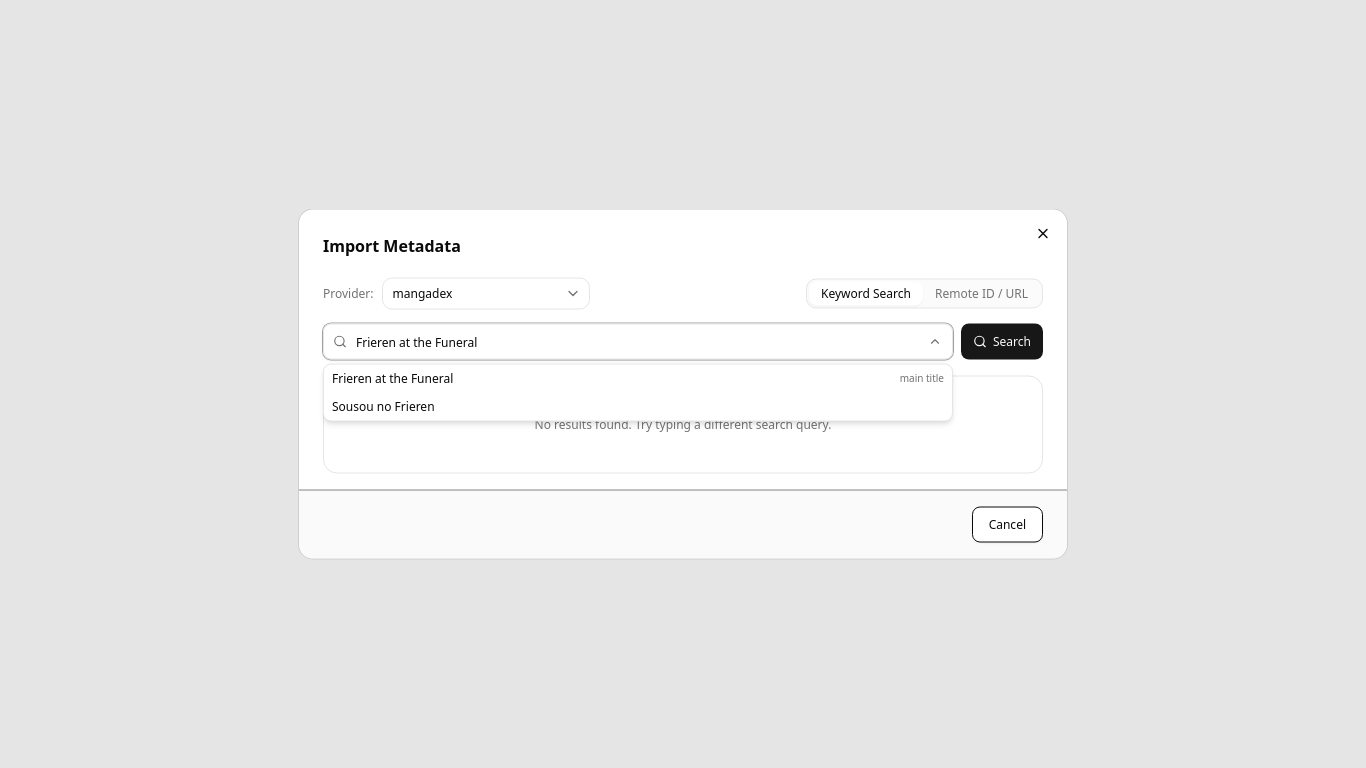
Test: ImportMetadataDialog › performs direct Remote ID / URL lookup and transitions to comparison
// Switch to direct ID/URL mode
Click the button "Remote ID / URL": (982, 294) [923,282,1040,306]
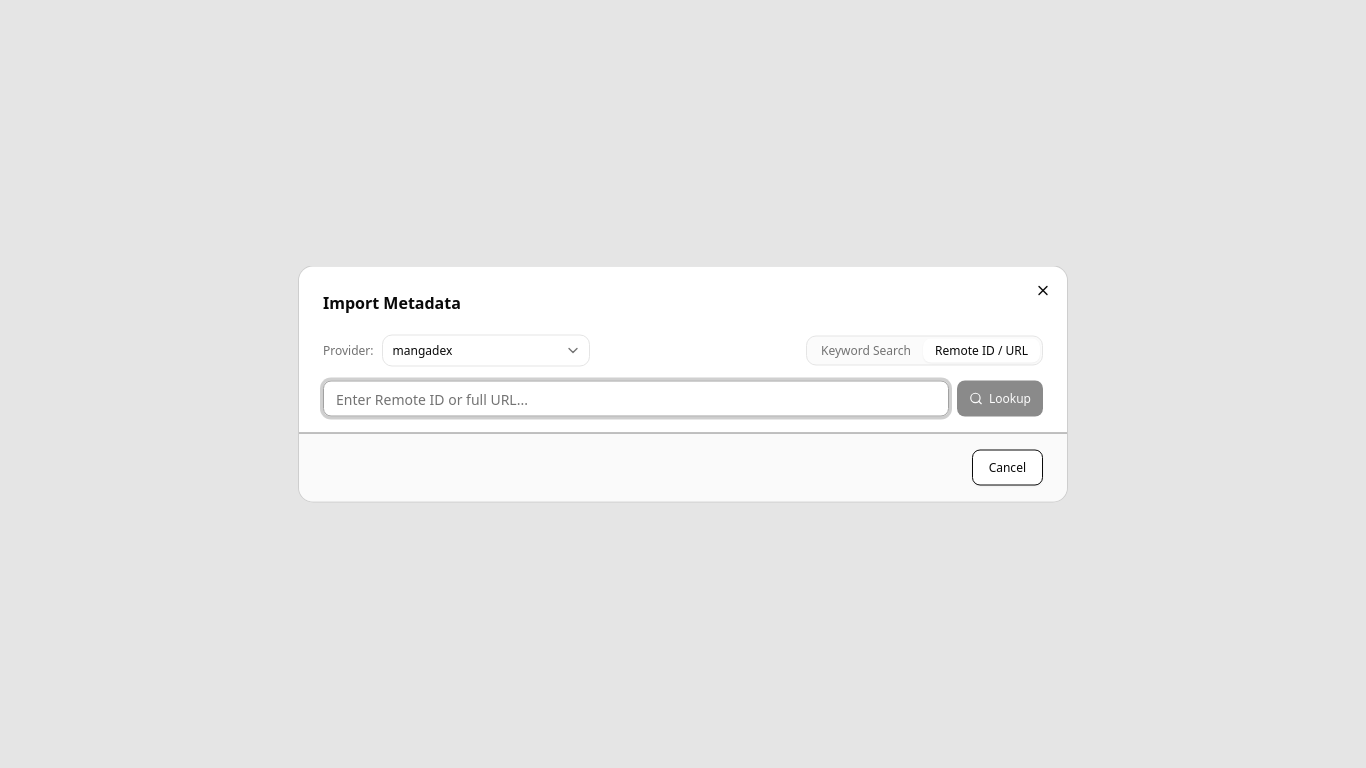
In the field with placeholder "Enter Remote ID or full URL...": (636, 398) [323,380,949,416], type "remote-123"
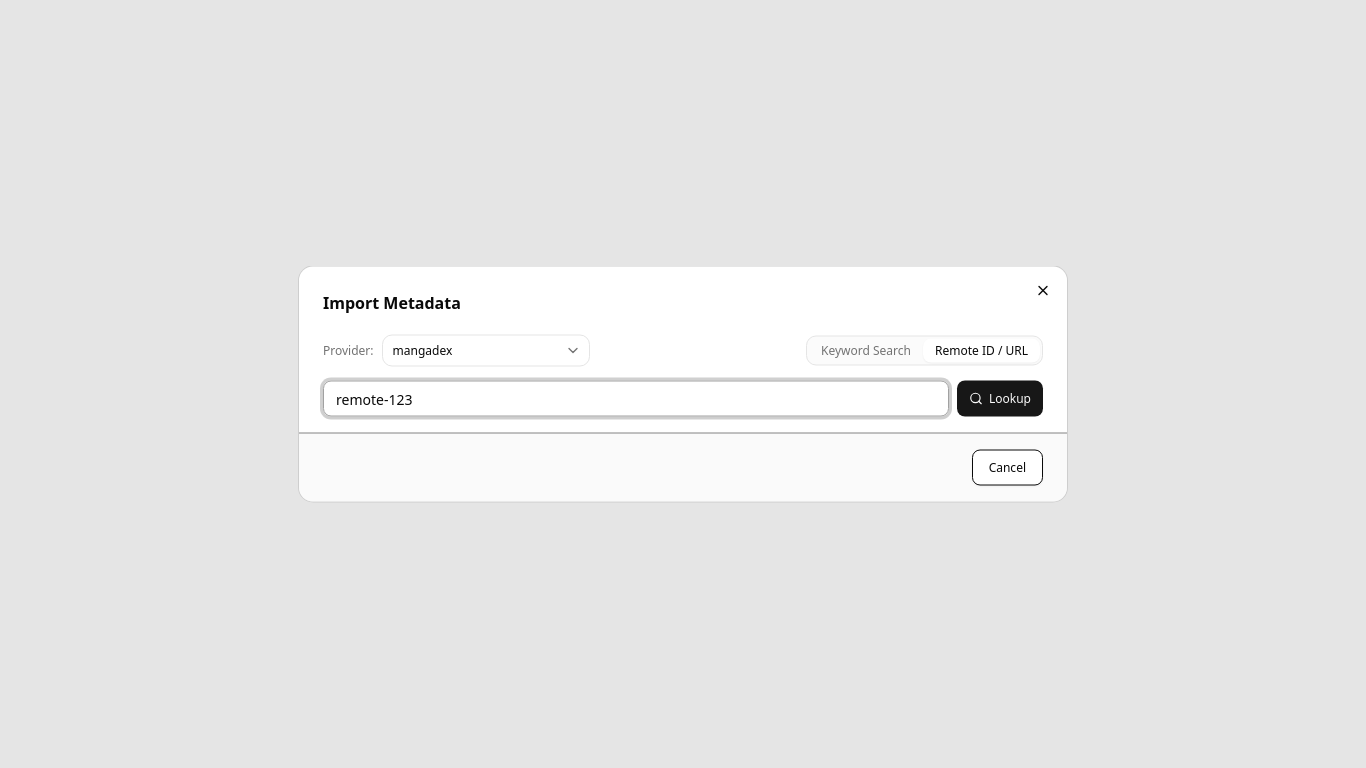
Click the button "Lookup": (1000, 398) [957,380,1043,416]
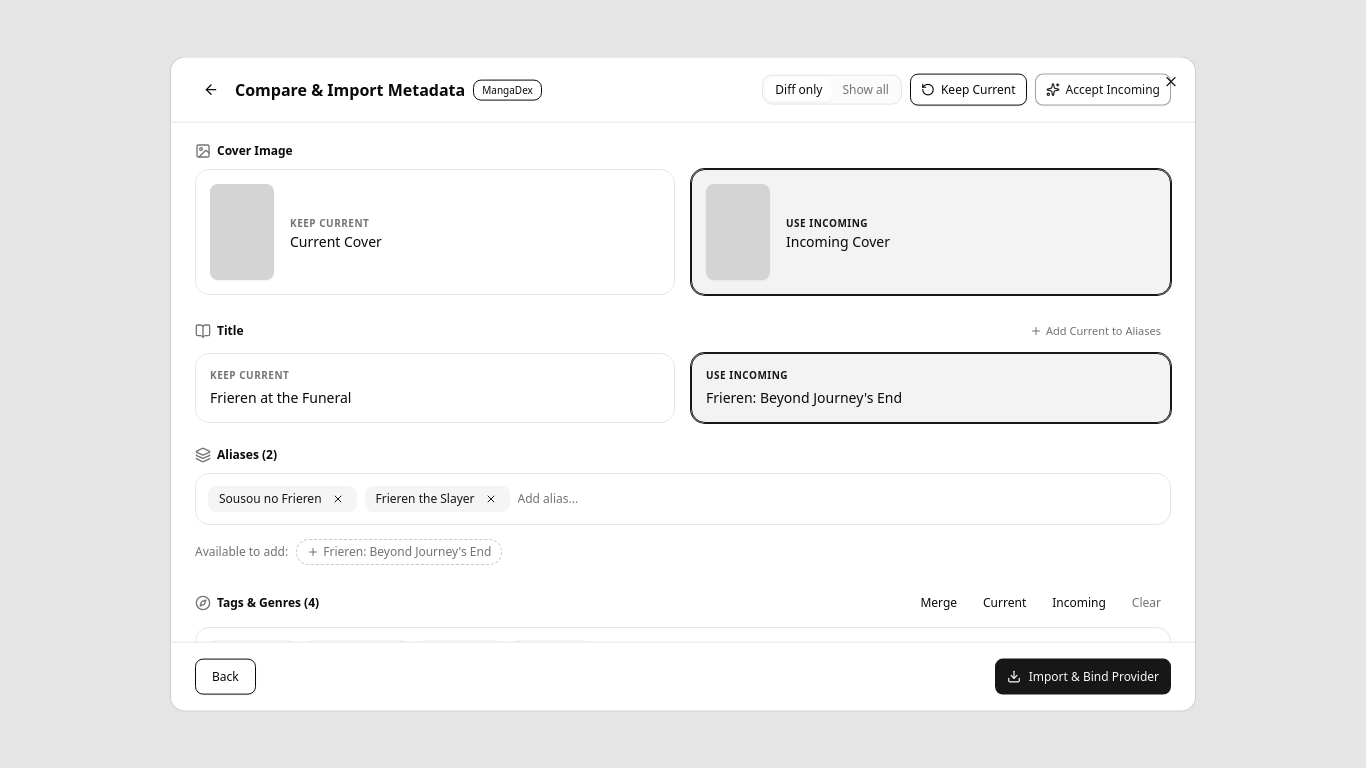
Now the text "Compare & Import Metadata" is shown, box [235,78,465,102]
Now the 1st text "Frieren: Beyond Journey's End" is shown, box [706,388,902,407]
